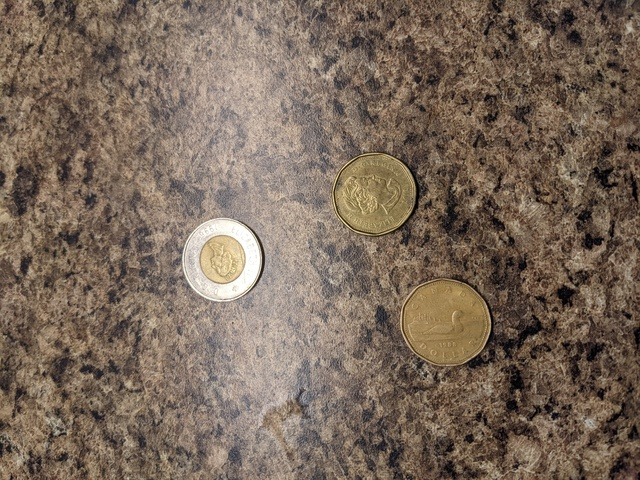loonie: (384, 262, 494, 366), (319, 142, 426, 239)
twonie: (168, 208, 270, 304)
